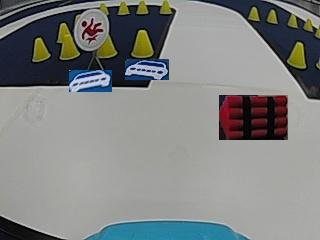cone: (132, 28, 155, 59), (286, 41, 307, 70), (59, 34, 78, 60), (97, 36, 118, 59), (31, 37, 49, 62), (247, 6, 259, 21), (136, 0, 148, 15), (266, 8, 277, 24), (117, 1, 129, 15), (160, 0, 171, 15), (287, 13, 298, 28), (98, 2, 108, 16), (304, 17, 312, 32)
tumble: (76, 12, 106, 46)
